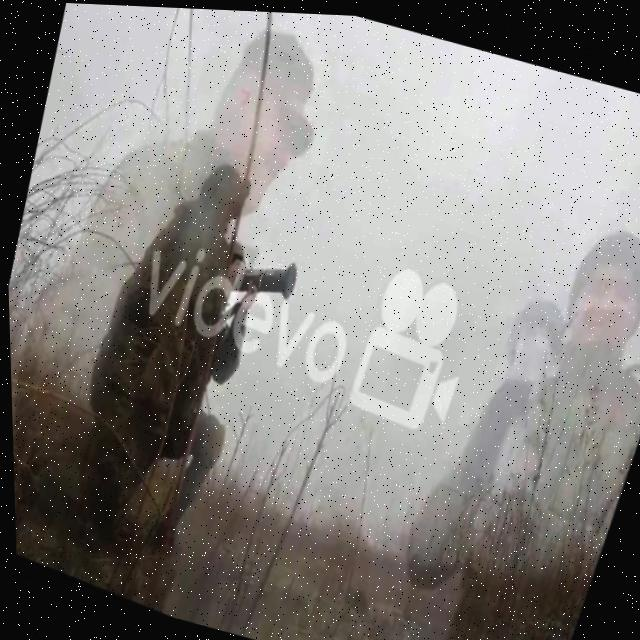rocket: (234, 246, 300, 306)
